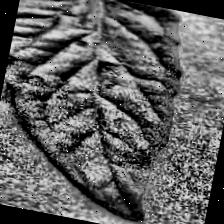disease: (0, 0, 195, 224)
